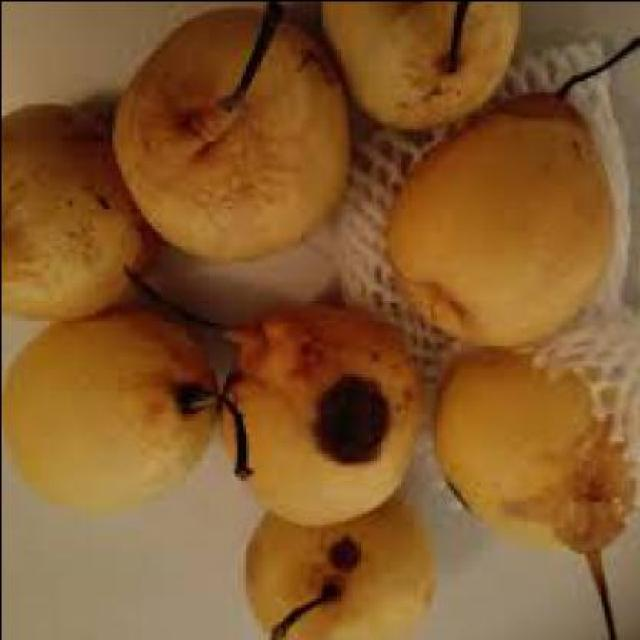BIODEGRADABLE: (386, 37, 639, 360), (114, 3, 355, 268), (432, 352, 638, 638), (2, 307, 256, 515), (3, 105, 214, 333), (216, 308, 421, 529), (244, 501, 436, 639), (318, 3, 520, 134)
